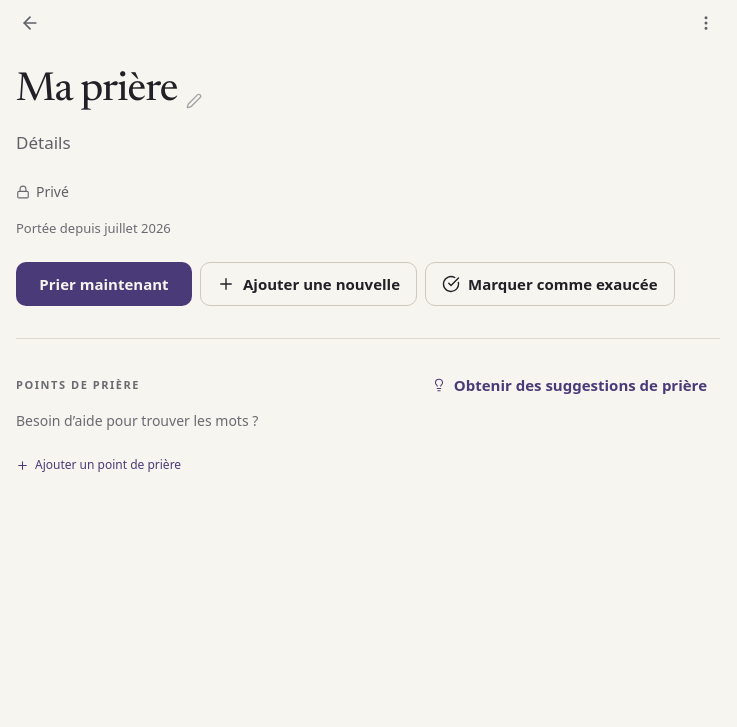
Scenario: PrayerDetail — leads with prayer › after marking answered, asks once about a faithful next step — private by default
Click the button "Marquer comme exaucée": (550, 284) [425,262,674,306]
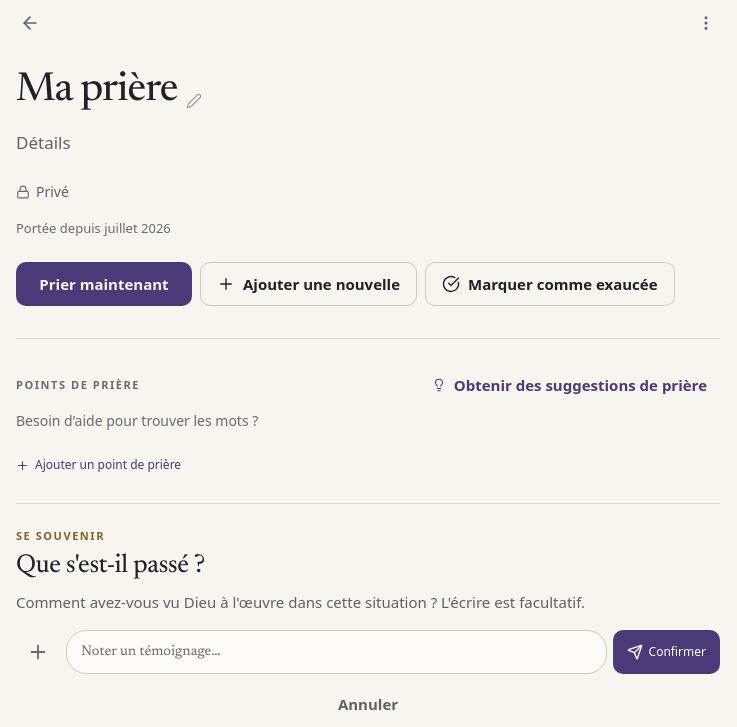
Click the button "Confirmer": (666, 652) [613,630,720,674]
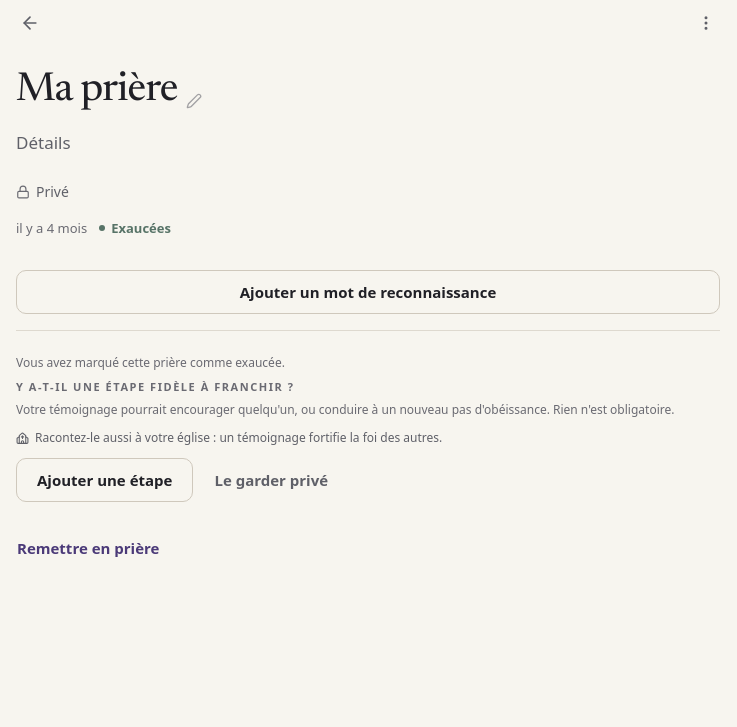
Now the text "Vous avez marqué cette prière comme exaucée." is shown, box [16,354,285,371]
Now the text "Y a-t-il une étape fidèle à franchir ?" is shown, box [16,379,294,394]
Click the button "Le garder privé": (271, 480) [201,458,341,502]
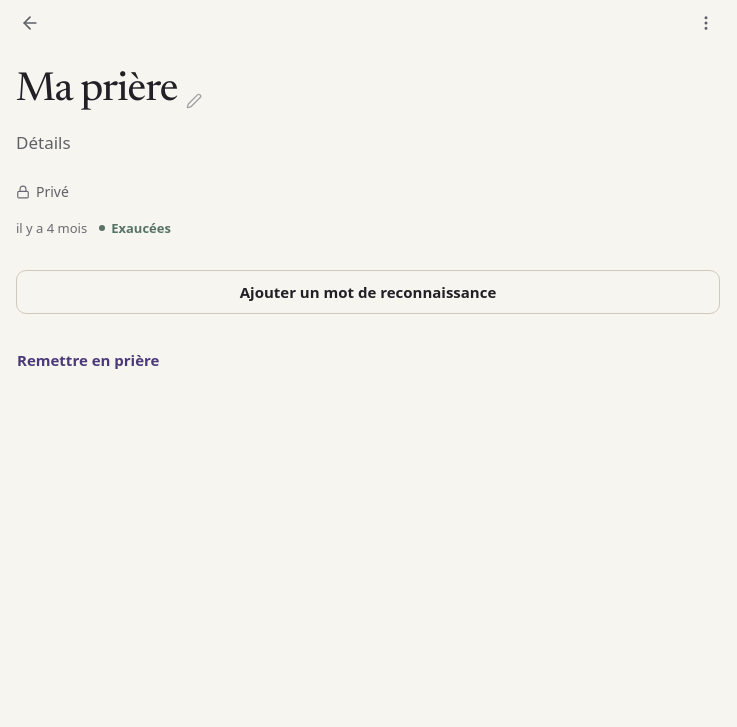
Now the text "Y a-t-il une étape fidèle à franchir ?" is gone
